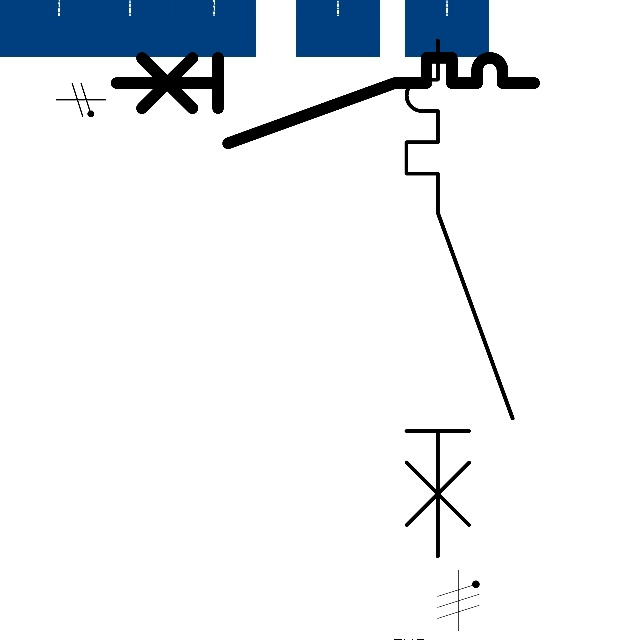interruptor_termomagnetico: (393, 27, 526, 569), (105, 47, 544, 154)
